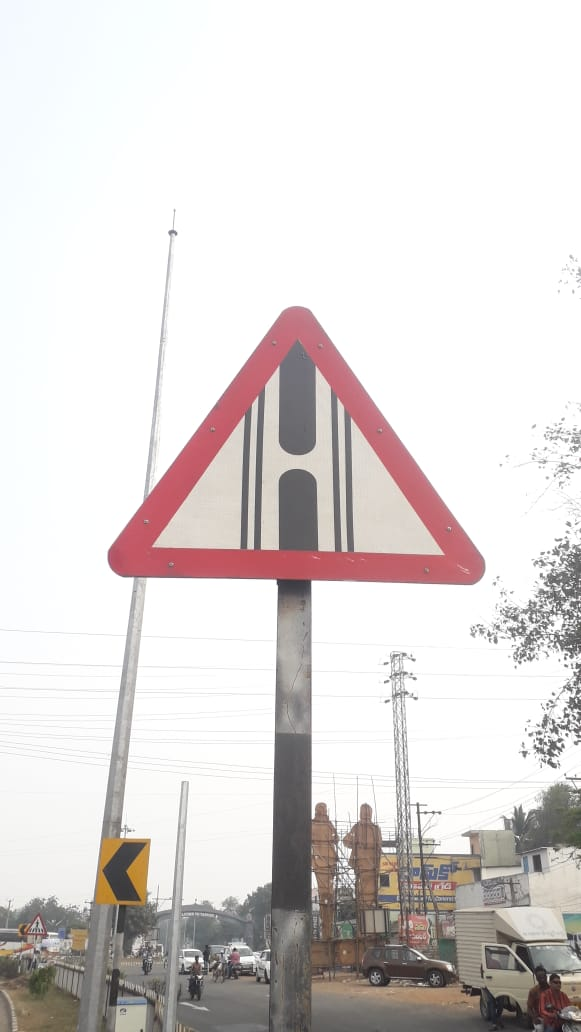highway go straight: (96, 284, 506, 670)
